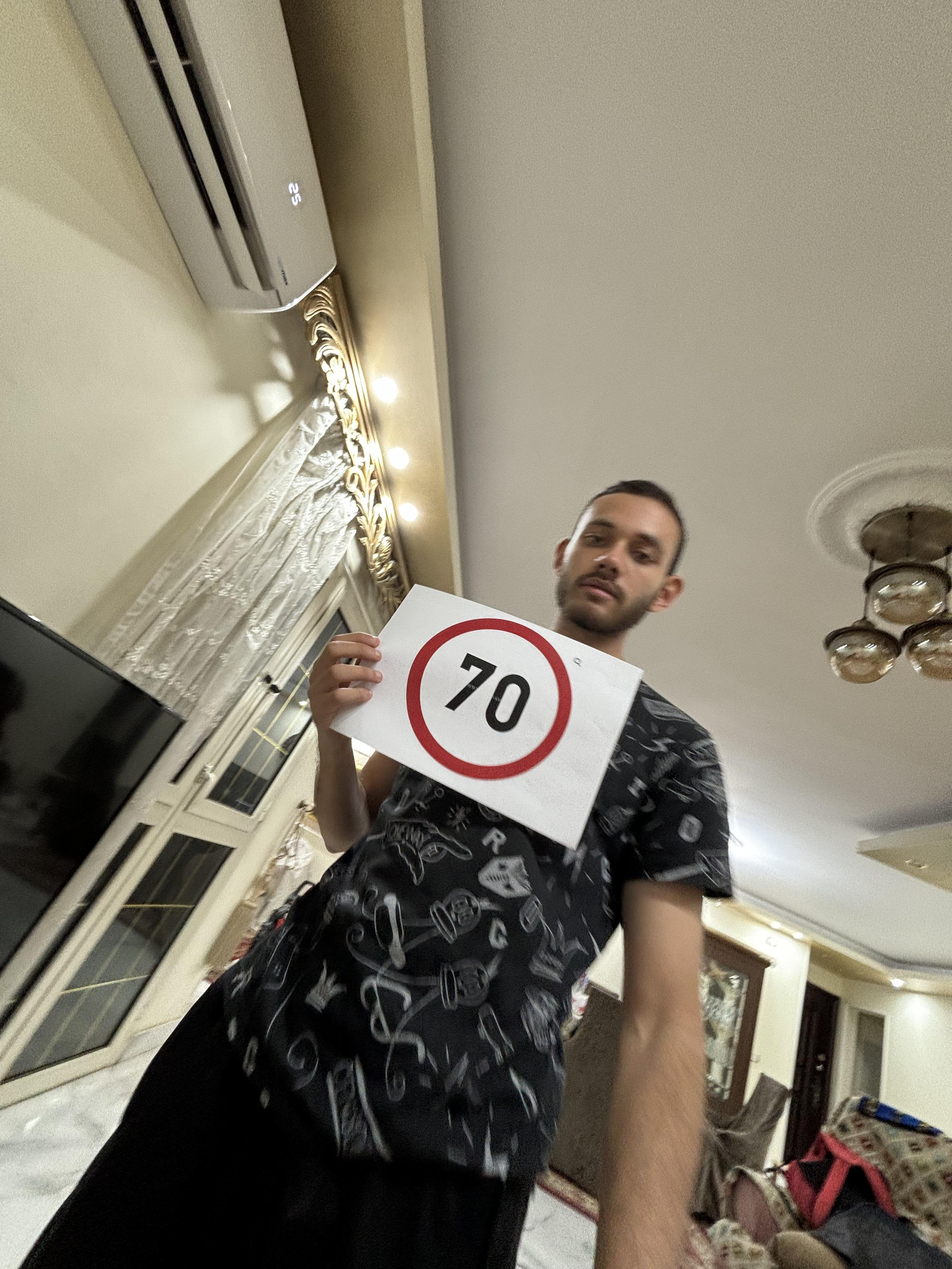70-Speed: (400, 610, 578, 784)
